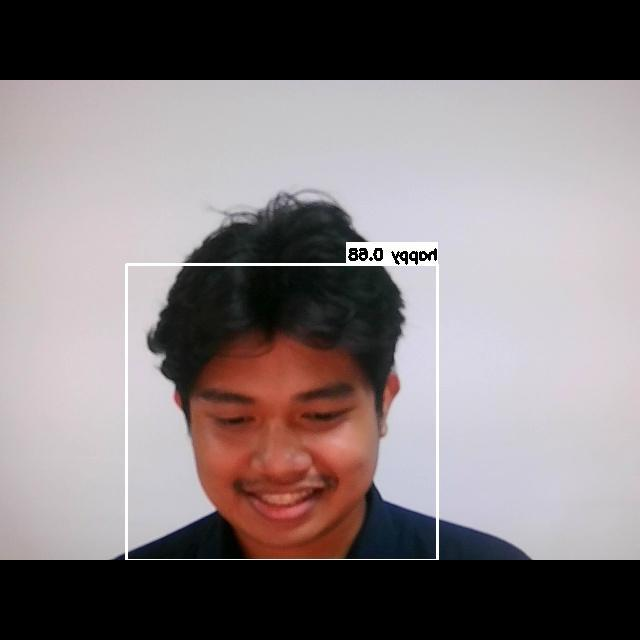Happy: (175, 361, 389, 536)
